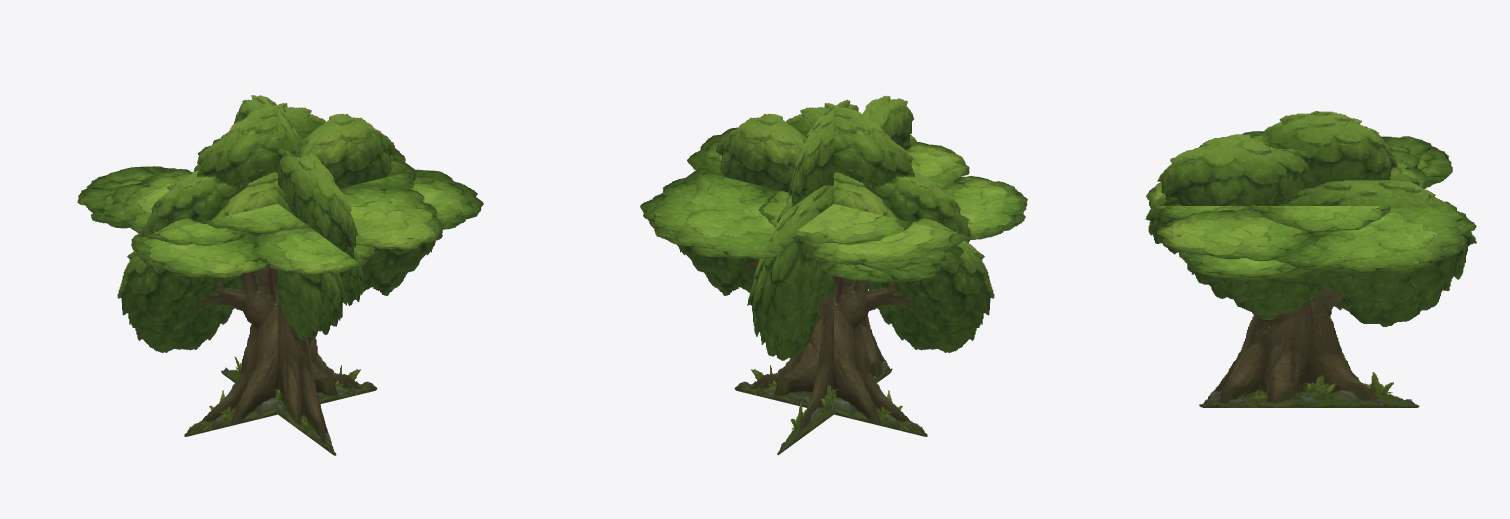
The model's file is tree-golden-canopy.glb.
3 views of the same model, side by side, from view 1: azimuth 30°, elevation 25°; view 2: azimuth 150°, elevation 25°; view 3: azimuth 270°, elevation 25° (orthographic). The views are drawn at different scales.
Bounding box in the file's own units: 1.97 × 1.97 × 1.97.
1 material, 1 textured.
